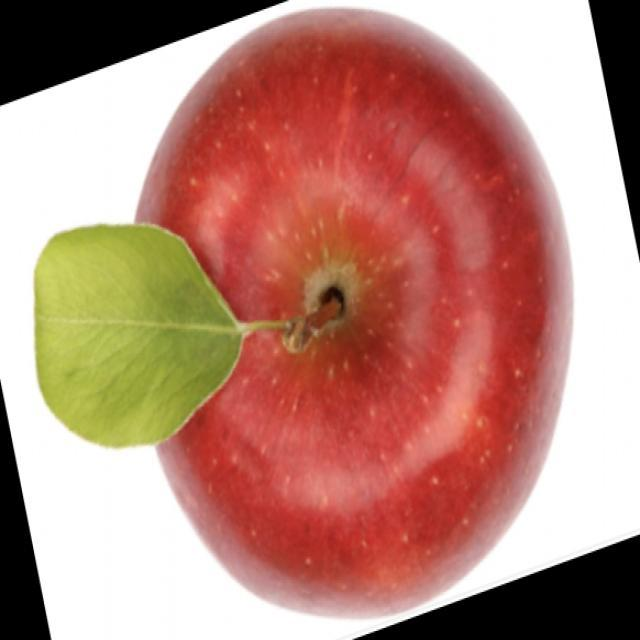Fresh Apple: (162, 15, 565, 592)
